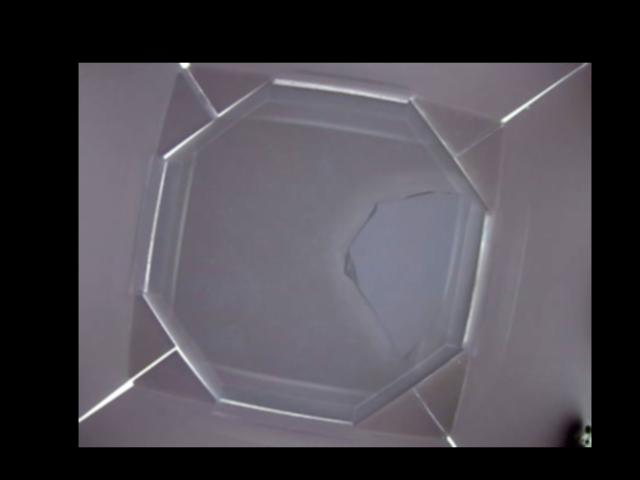China: (344, 187, 458, 362)
